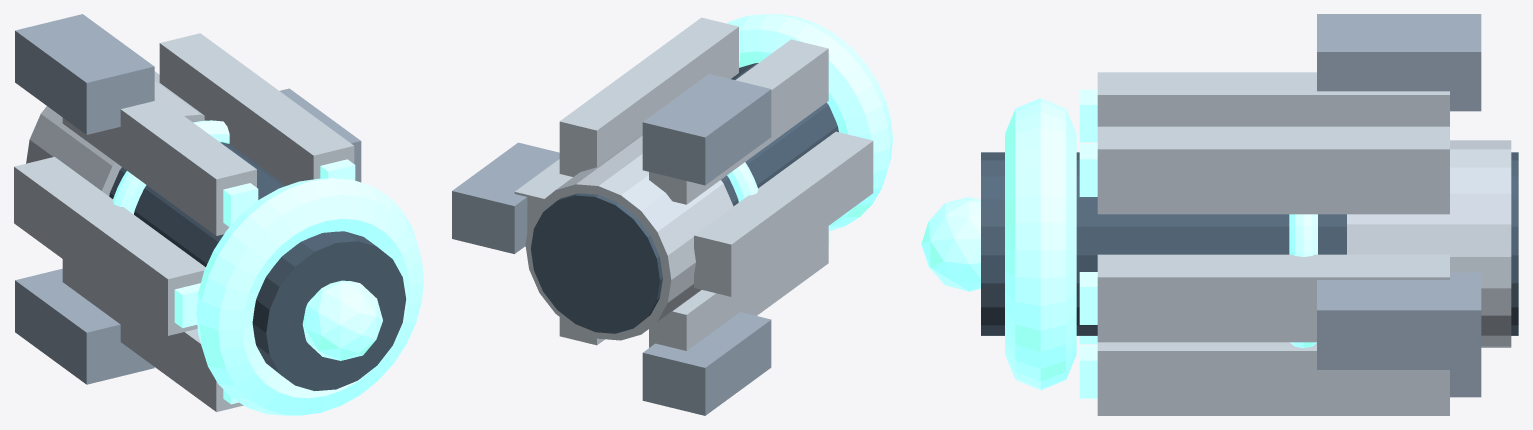
The model's file is falcao.glb.
3 views of the same model, side by side, from view 1: azimuth 30°, elevation 25°; view 2: azimuth 150°, elevation 25°; view 3: azimuth 270°, elevation 25° (orthographic). The views are drawn at different scales.
Parts seen in each view (by area): view 1: Emitter3, Barrel0, ArmorFin11, ArmorFin7, JetPod18, ArmorFin9, JetPod19, ArmorFin13, Muzzle4, Housing1, Capacitor20, JetPod17 (+3 smaller); view 2: Barrel0, ArmorFin11, ArmorFin7, Housing1, JetPod18, Emitter3, JetPod19, JetPod17, ArmorFin9, ArmorFin13, ArmorFin5, Capacitor20 (+1 smaller); view 3: ArmorFin7, ArmorFin5, ArmorFin15, Emitter3, Barrel0, ArmorFin9, JetPod17, Housing1, JetPod18, Muzzle4, Capacitor20, Lumen10 (+4 smaller).
Boxes of the visible parts, left/top/right/bottom form: Emitter3: left=196, top=178, right=423, bottom=415; Barrel0: left=109, top=142, right=406, bottom=390; ArmorFin11: left=14, top=156, right=205, bottom=335; ArmorFin7: left=159, top=33, right=354, bottom=185; JetPod18: left=15, top=14, right=154, bottom=134; ArmorFin9: left=62, top=95, right=256, bottom=235; JetPod19: left=15, top=268, right=154, bottom=384; ArmorFin13: left=62, top=259, right=243, bottom=411; Muzzle4: left=302, top=280, right=382, bottom=360; Housing1: left=26, top=71, right=204, bottom=196; Capacitor20: left=112, top=120, right=229, bottom=214; JetPod17: left=280, top=88, right=361, bottom=182; Barrel0: left=531, top=63, right=838, bottom=333; ArmorFin11: left=694, top=131, right=873, bottom=296; ArmorFin7: left=559, top=17, right=738, bottom=176; Housing1: left=525, top=136, right=733, bottom=340; JetPod18: left=642, top=74, right=771, bottom=185; Emitter3: left=727, top=14, right=892, bottom=230; JetPod19: left=642, top=312, right=771, bottom=415; JetPod17: left=452, top=142, right=559, bottom=253; ArmorFin9: left=649, top=39, right=828, bottom=204; ArmorFin13: left=649, top=226, right=828, bottom=350; ArmorFin5: left=514, top=159, right=572, bottom=246; Capacitor20: left=727, top=162, right=758, bottom=202; ArmorFin7: left=1097, top=126, right=1449, bottom=214; ArmorFin5: left=1097, top=254, right=1449, bottom=342; ArmorFin15: left=1097, top=342, right=1449, bottom=415; Emitter3: left=1005, top=98, right=1076, bottom=390; Barrel0: left=981, top=152, right=1518, bottom=335; ArmorFin9: left=1097, top=72, right=1449, bottom=126; JetPod17: left=1317, top=272, right=1481, bottom=369; Housing1: left=1347, top=140, right=1511, bottom=347; JetPod18: left=1317, top=14, right=1481, bottom=111; Muzzle4: left=921, top=197, right=980, bottom=291; Capacitor20: left=1289, top=214, right=1317, bottom=348; Lumen10: left=1079, top=89, right=1097, bottom=142.
Size of the model in its own units: 1.28 by 1.28 by 2.
